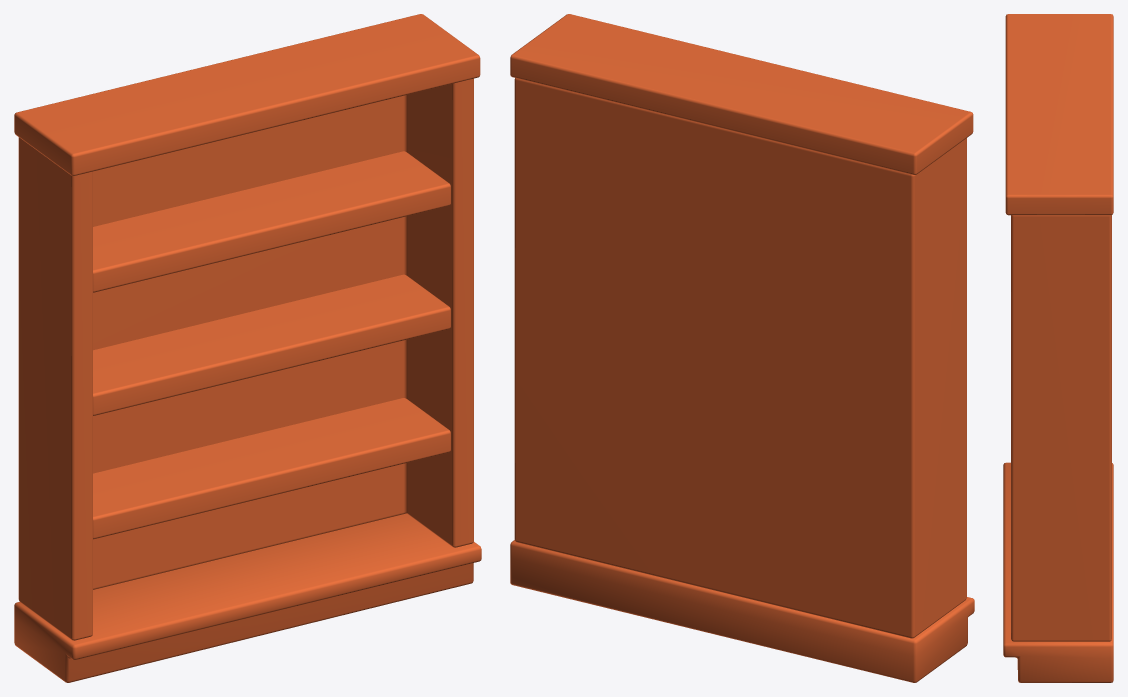
Rendered from Shelf.glb.
The picture shows the model from 3 angles, left to right: view 1: azimuth 30°, elevation 25°; view 2: azimuth 150°, elevation 25°; view 3: azimuth 270°, elevation 25°; orthographic projection. The views are drawn at different scales.
Parts seen in each view (by area): view 1: Shelf; view 2: Shelf; view 3: Shelf.
Boxes of the visible parts, x1,y1,x2,y2 form: Shelf: [14, 14, 481, 682]; Shelf: [510, 14, 974, 682]; Shelf: [1003, 14, 1113, 682].
Size of the model in its own units: 1.22 by 1.52 by 0.3113.
